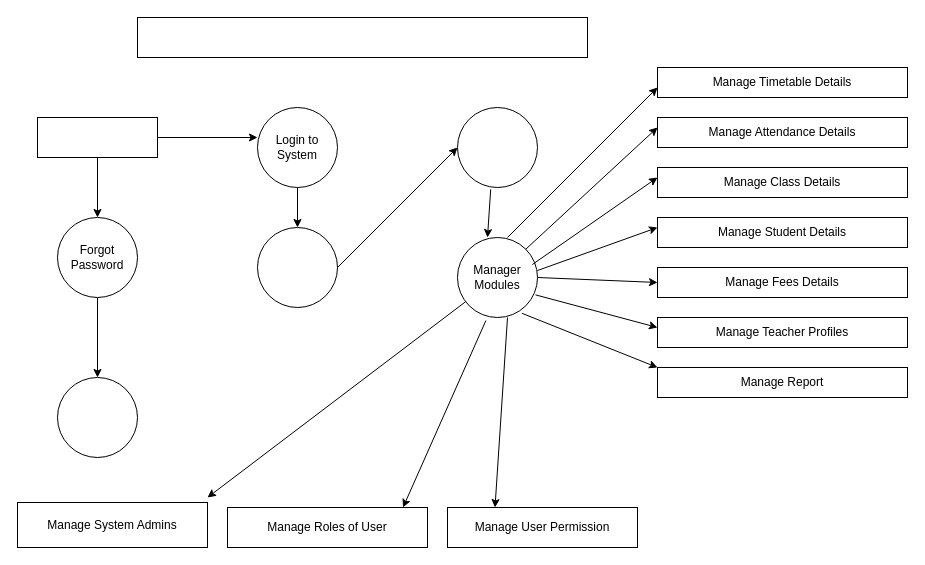
The diagram is 925 pixels wide and 565 high, and some of its shapes have lost their labels. The centre of each missing label's shape, as x and y in pixels:
Admin: the point at 97,137
Check Credentials: the point at 297,267
Check Roles of Access: the point at 497,147
Send Email to User: the point at 97,417
Student Information System: the point at 362,37
